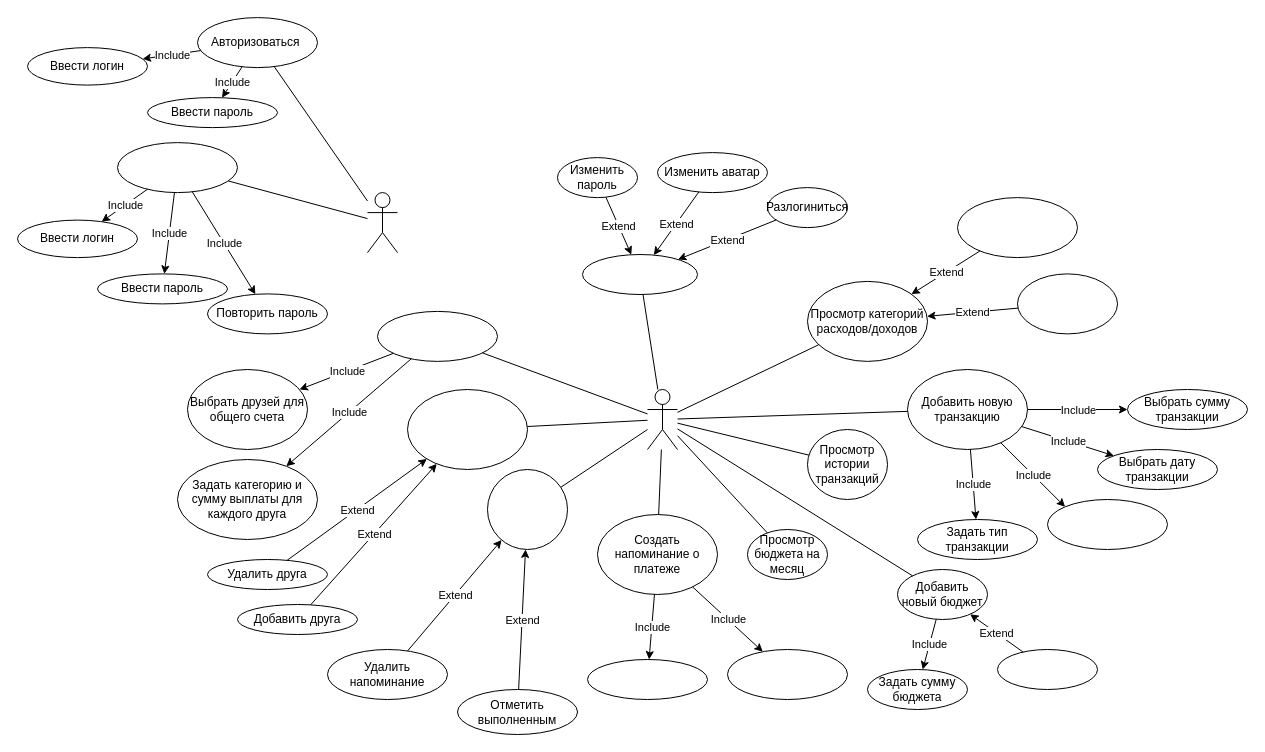
This 1265x752 diagram has some shape labels left out. Here are the shapes that lost their labels. From the top down, the centre of each, then its label:
At [177,167]: "Зарегистрироваться".
At [382,222]: "Неавторизованный пользователь".
At [1017,227]: "Создать собственную категорию".
At [640,274]: "Просмотр профиля".
At [1067,303]: "Добавить новую категорию".
At [437,335]: "Создать общий счет".
At [467,429]: "Просмотреть друзей".
At [662,419]: "Пользователь".
At [527,509]: "Просмотр напоминаний".
At [1107,524]: "Выбрать категорию транзакции".
At [647,679]: "Задать сумму платежа".
At [787,674]: "Выбрать категорию платежа".
At [1047,669]: "Выбрать категорию".
